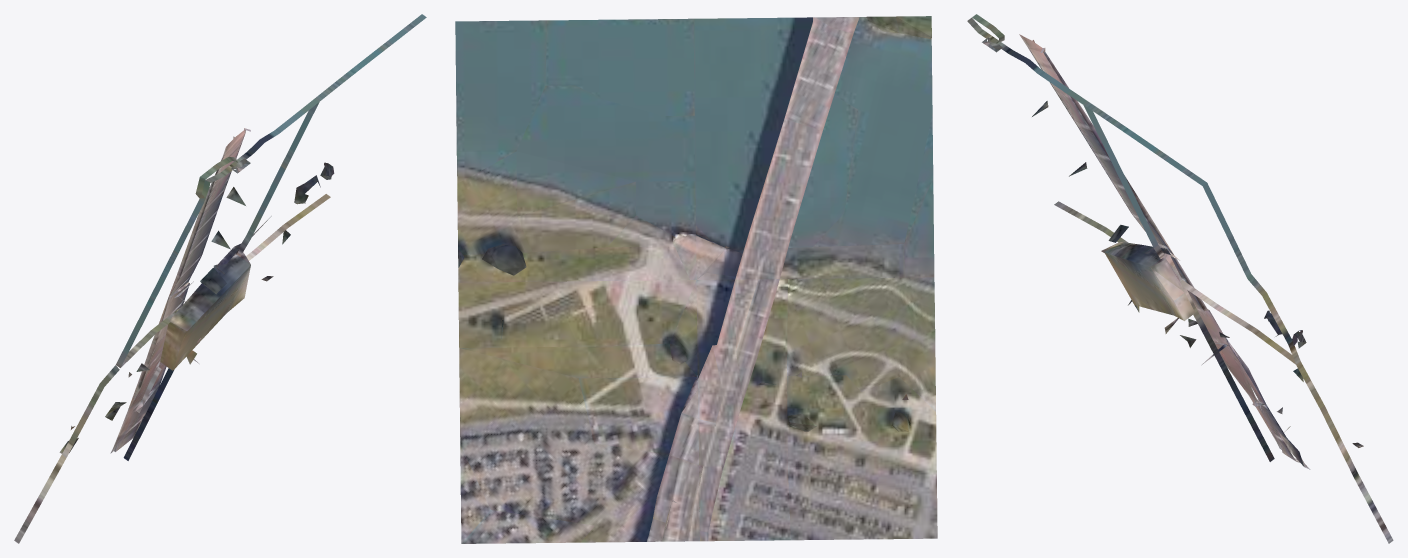
3 views of the same model, side by side, from view 1: azimuth 30°, elevation 25°; view 2: azimuth 150°, elevation 25°; view 3: azimuth 270°, elevation 25° (orthographic). The views are drawn at different scales.
Size of the model in its own units: 309 by 281 by 261.
Materials: 1 (1 with a texture image).
